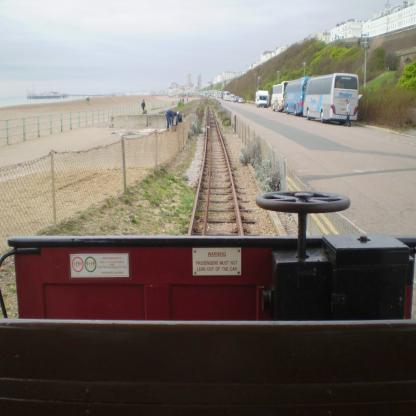Bus: (300, 70, 362, 118), (285, 73, 309, 113), (269, 82, 288, 113)
